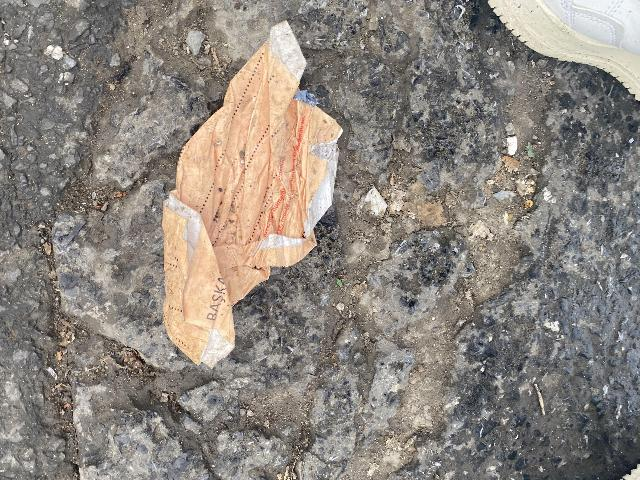Kagit: (114, 3, 376, 378)
